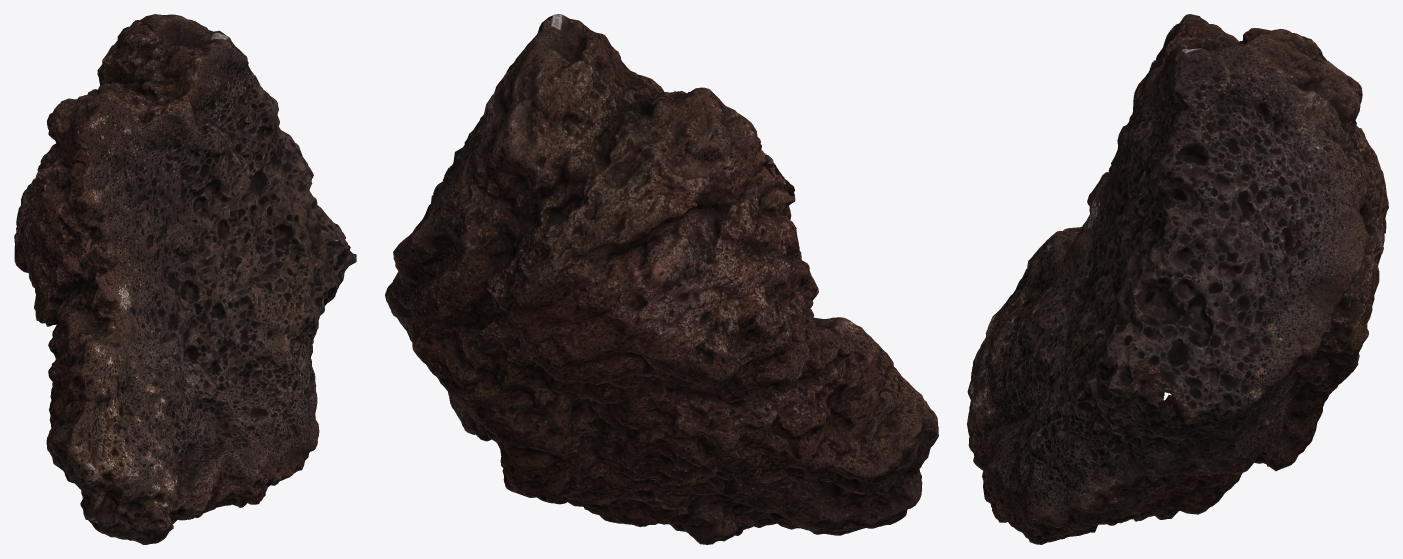
File: scoria.glb
3 views of the same model, side by side, from view 1: azimuth 30°, elevation 25°; view 2: azimuth 150°, elevation 25°; view 3: azimuth 270°, elevation 25° (orthographic). The views are drawn at different scales.
Visible parts, largest first — view 1: Object_5, Object_2; view 2: Object_5, Object_2; view 3: Object_2, Object_5.
Boxes of the visible parts, x1=… form: Object_5: x1=14, y1=14, x2=356, y2=544; Object_2: x1=16, y1=14, x2=356, y2=520; Object_5: x1=460, y1=14, x2=938, y2=544; Object_2: x1=385, y1=15, x2=938, y2=544; Object_2: x1=974, y1=33, x2=1384, y2=544; Object_5: x1=967, y1=14, x2=1388, y2=536.
Bounding box in the file's own units: 0.0929 × 0.11 × 0.0809.
2 materials, 2 textured.
